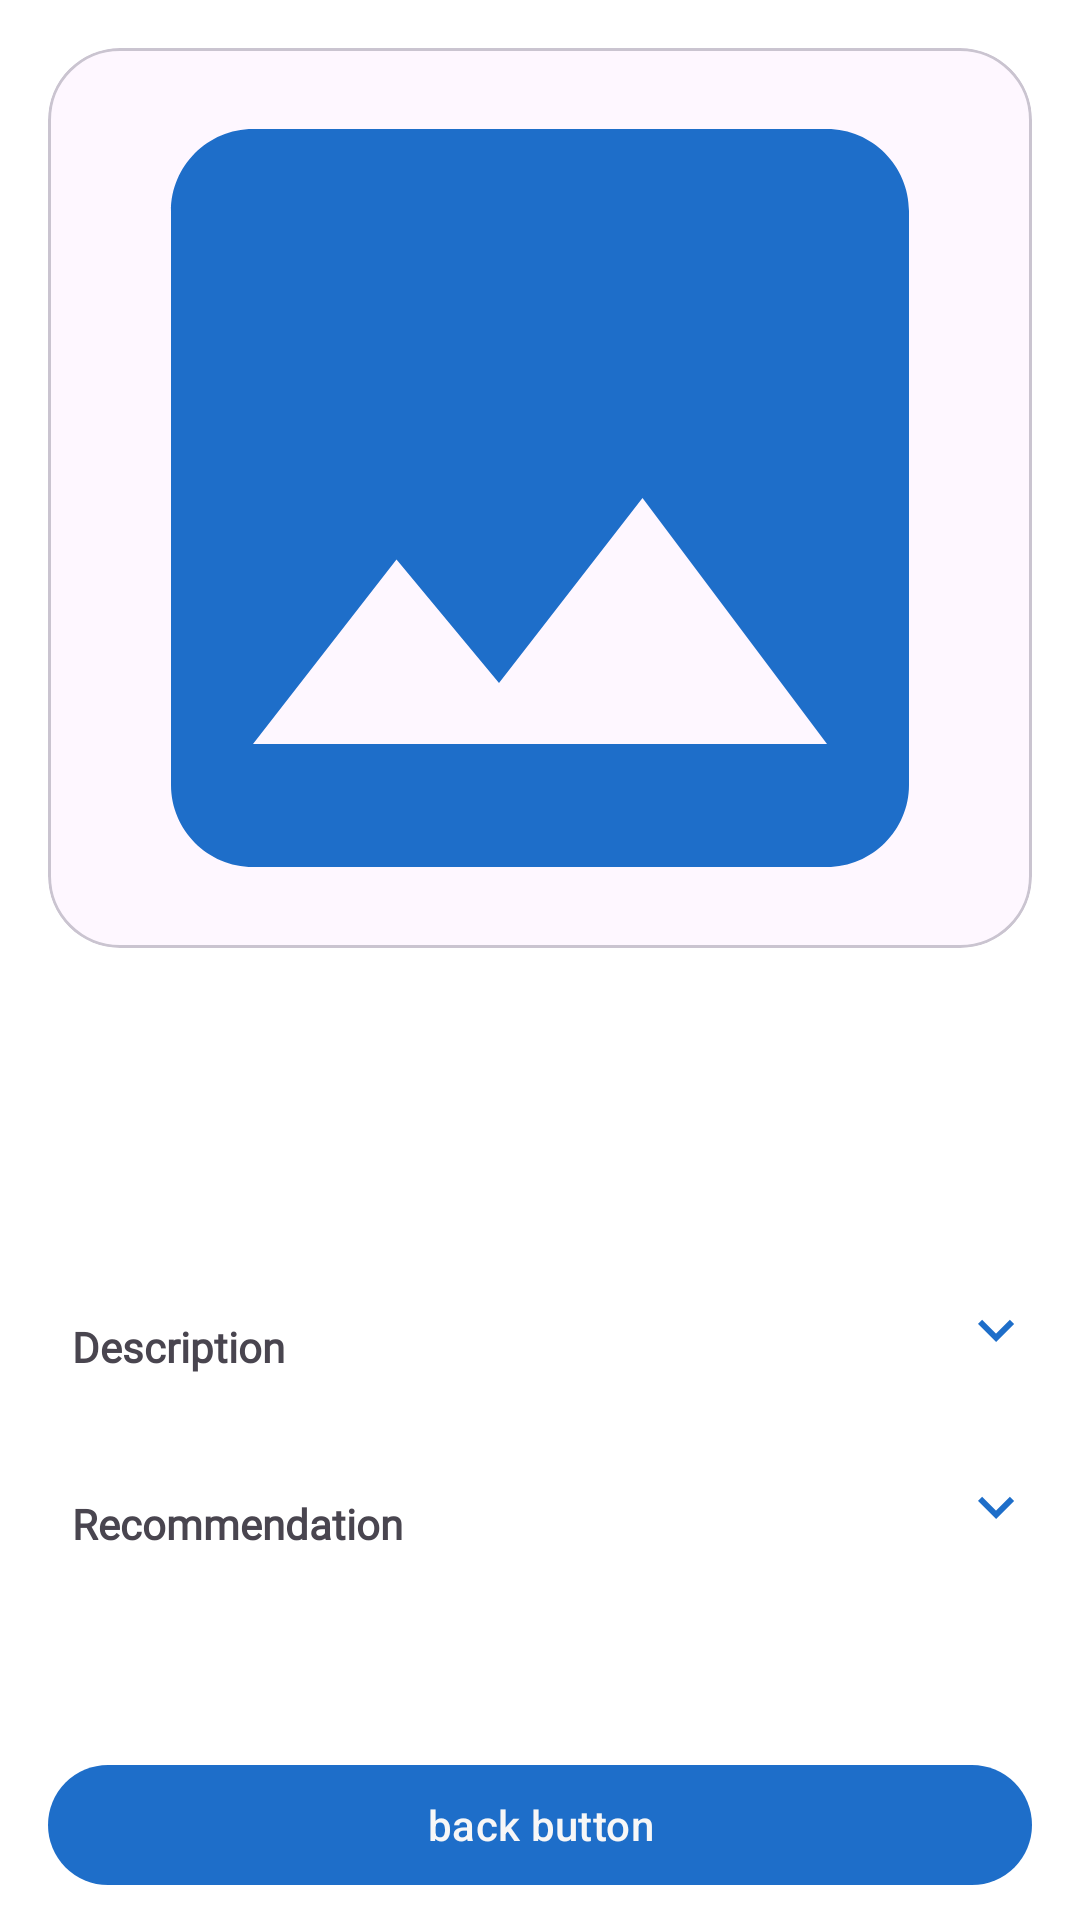

Screen size 1080*1920. Icon name, then its box in pixels as (x1, y1, x2, y2):
arrow: (978, 1320, 1014, 1342), (978, 1497, 1014, 1519)
